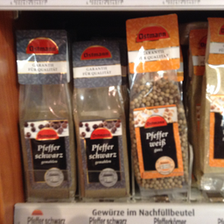spices: (126, 13, 189, 198), (15, 27, 76, 202), (70, 35, 129, 199)
